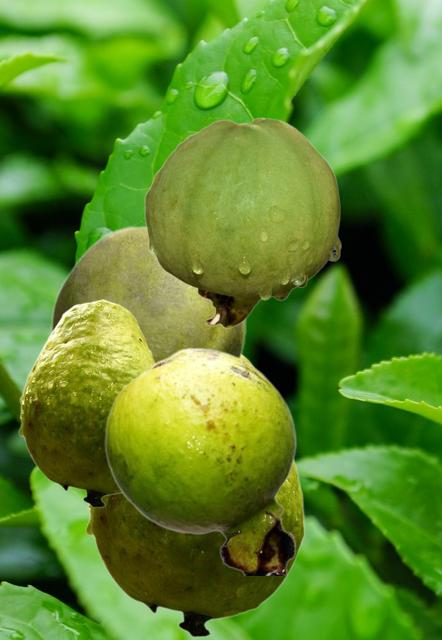guava: (85, 354, 304, 637), (104, 347, 296, 574), (144, 117, 340, 327), (18, 299, 154, 507), (50, 225, 246, 360)
